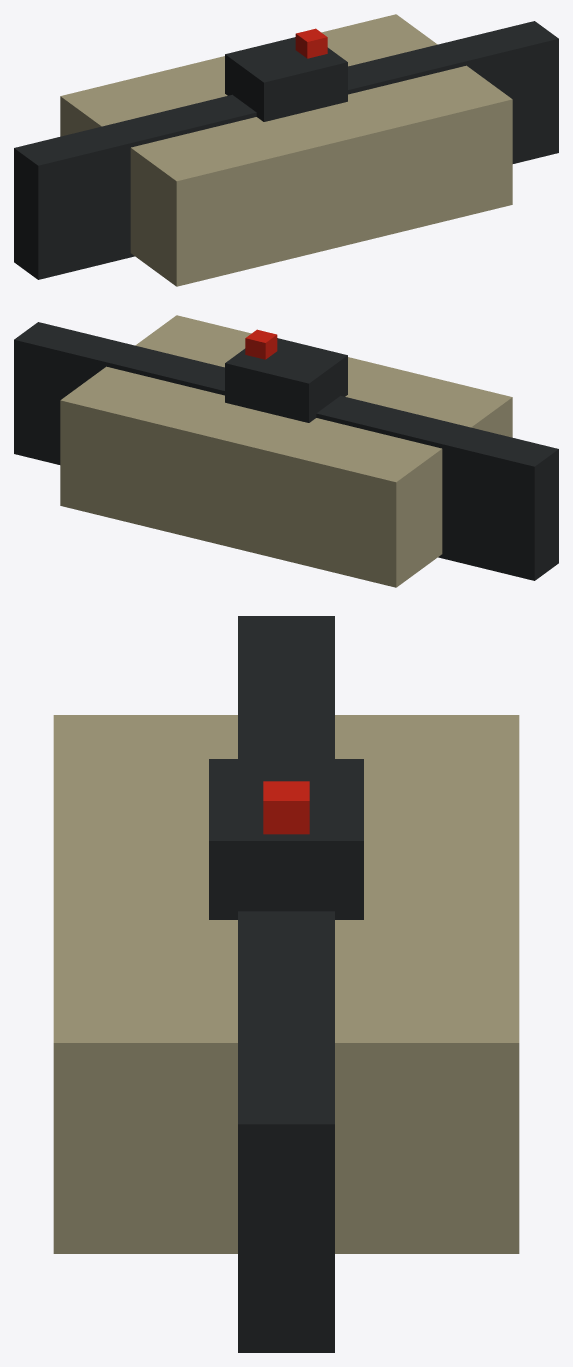
3 views of the same model, one above another, from view 1: azimuth 30°, elevation 25°; view 2: azimuth 150°, elevation 25°; view 3: azimuth 270°, elevation 25° (orthographic). The views are drawn at different scales.
Parts seen in each view (by area): view 1: Charge; view 2: Charge; view 3: Charge.
Part boxes in pixels (x1,y1,x2,y2): Charge: [14, 14, 558, 286]; Charge: [14, 315, 558, 587]; Charge: [53, 616, 519, 1352].
Bounding box in the file's own units: 0.31 × 0.0945 × 0.12.
